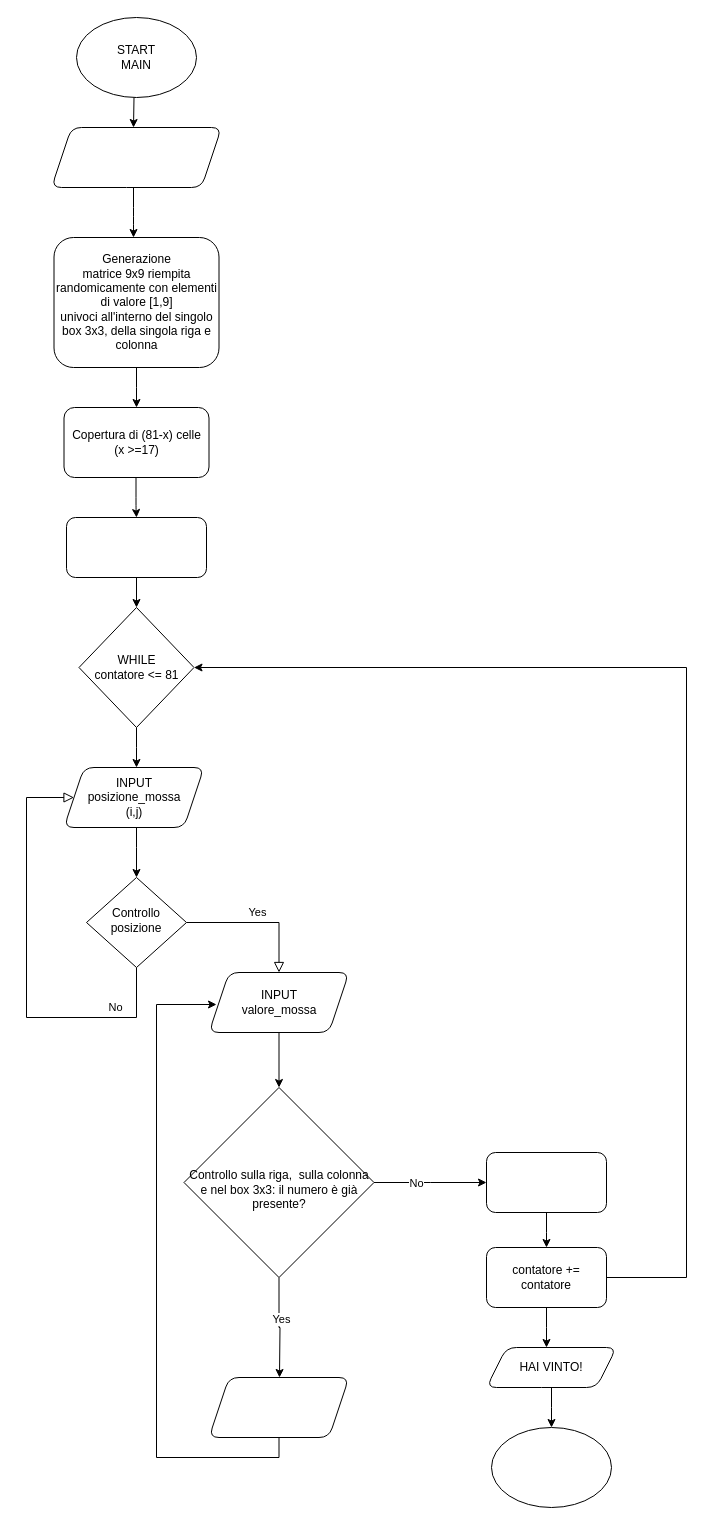
Some shapes in this 712 by 1525 pixel diagram are drawn without their labels. The shapes that lost their labels are listed below. From the top down, each one's box as (x1, y1, x2, y2) in pixels, then its label:
(50, 126, 222, 188): INPUT nome_utente
(66, 516, 206, 578): contatore = x
(486, 1152, 606, 1212): Inserisce il numero nella posizione indicata
(208, 1376, 349, 1438): ERRORE: mossa non valida!
(490, 1426, 612, 1508): END
